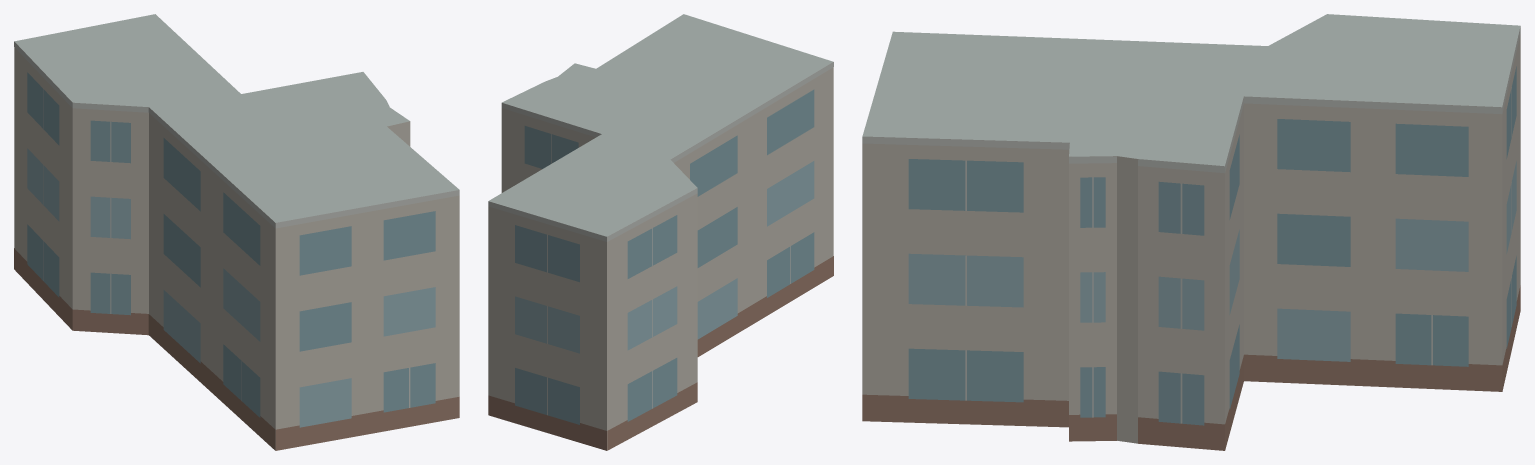
The model's file is survey-upis-32800247.glb.
3 views of the same model, side by side, from view 1: azimuth 30°, elevation 25°; view 2: azimuth 150°, elevation 25°; view 3: azimuth 270°, elevation 25° (orthographic). The views are drawn at different scales.
Visible parts, largest first — view 1: survey-upis-32800247.tmp; view 2: survey-upis-32800247.tmp; view 3: survey-upis-32800247.tmp.
Part boxes in pixels (bbox=[...]): survey-upis-32800247.tmp: bbox=[14, 14, 459, 450]; survey-upis-32800247.tmp: bbox=[488, 14, 833, 450]; survey-upis-32800247.tmp: bbox=[862, 14, 1520, 450].
Bounding box in the file's own units: 11.36 × 9.9 × 20.76.
